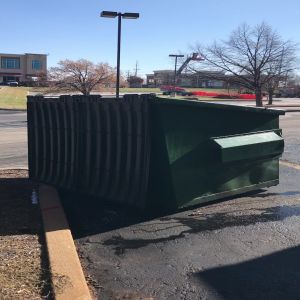Dumpster: (23, 88, 290, 213)
